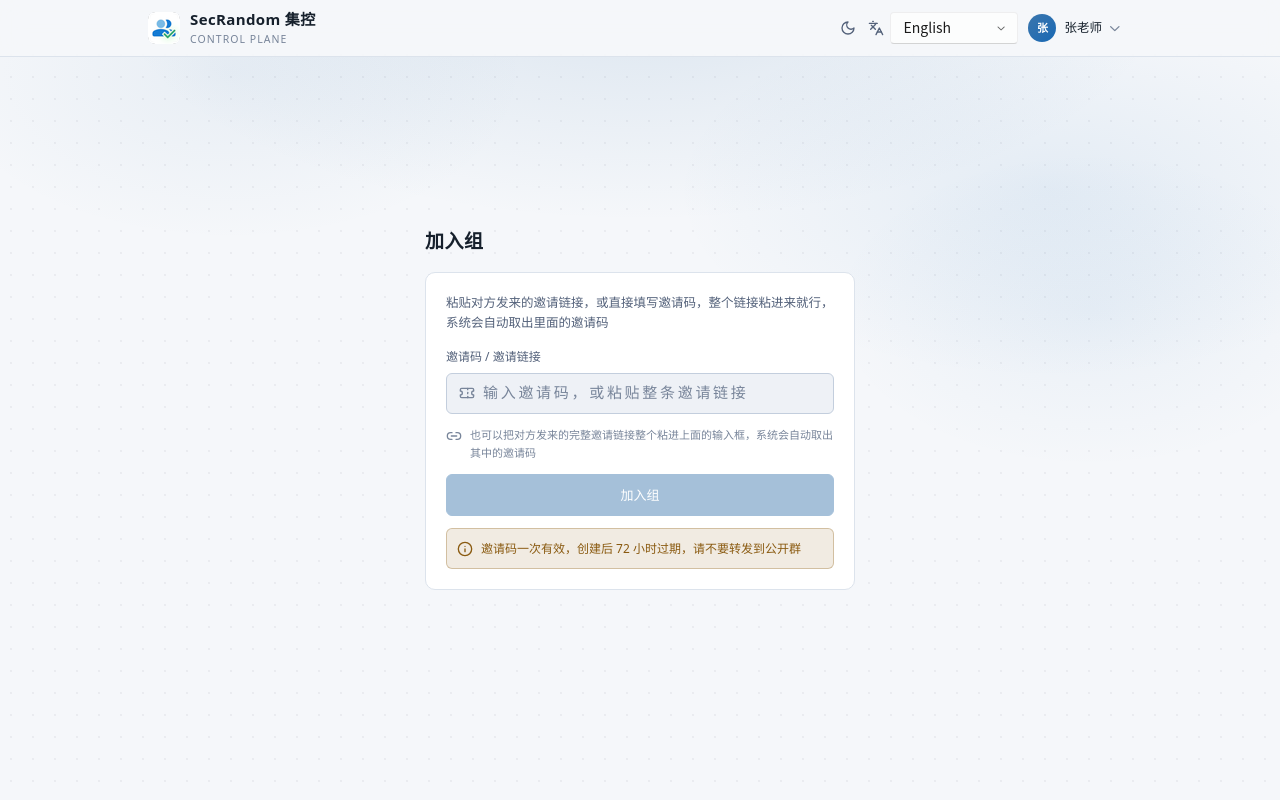
Scenario: JoinView › 链接里没有邀请码时给出明确提示，不发请求
Type "https://ctl.example.com/join" into the field labelled "邀请码 / 邀请链接". click: (652, 393)
box: x1=483 y1=382 x2=821 y2=405
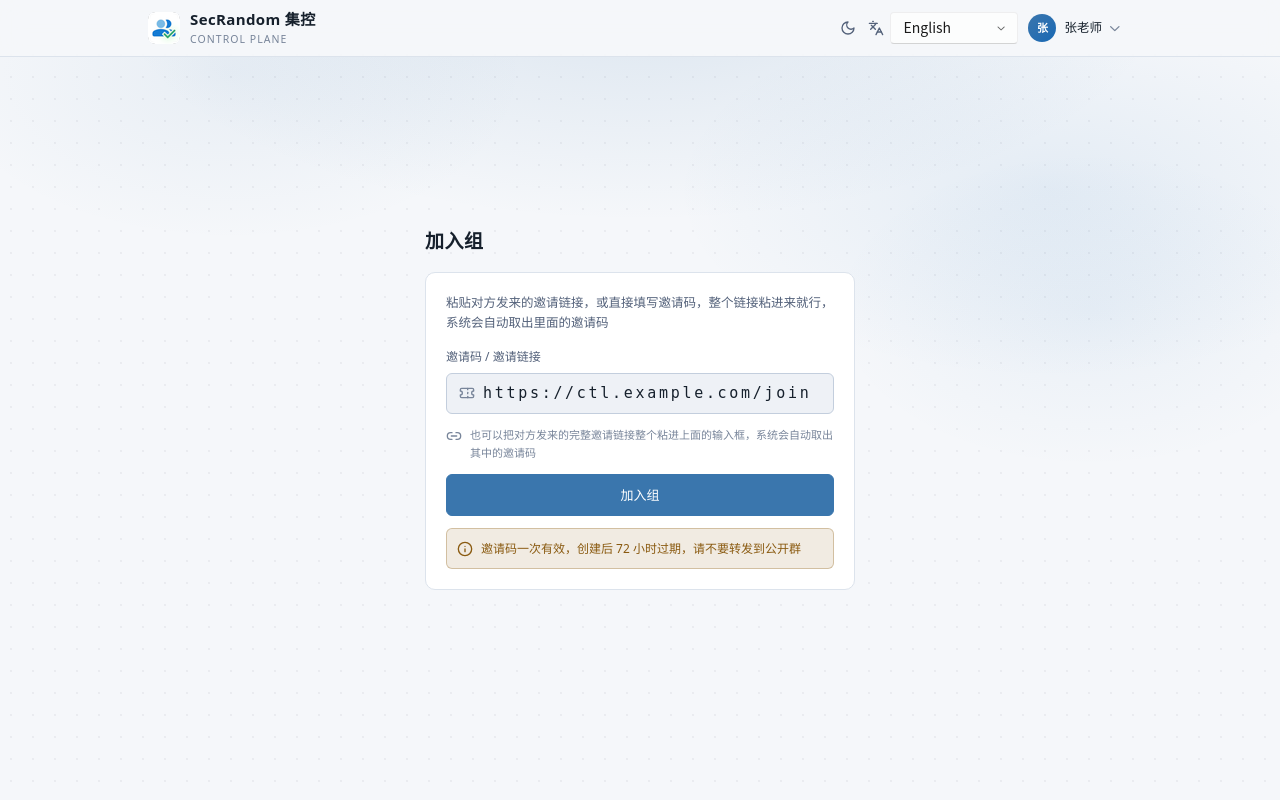
Submit the form, box x1=446 y1=348 x2=834 y2=516
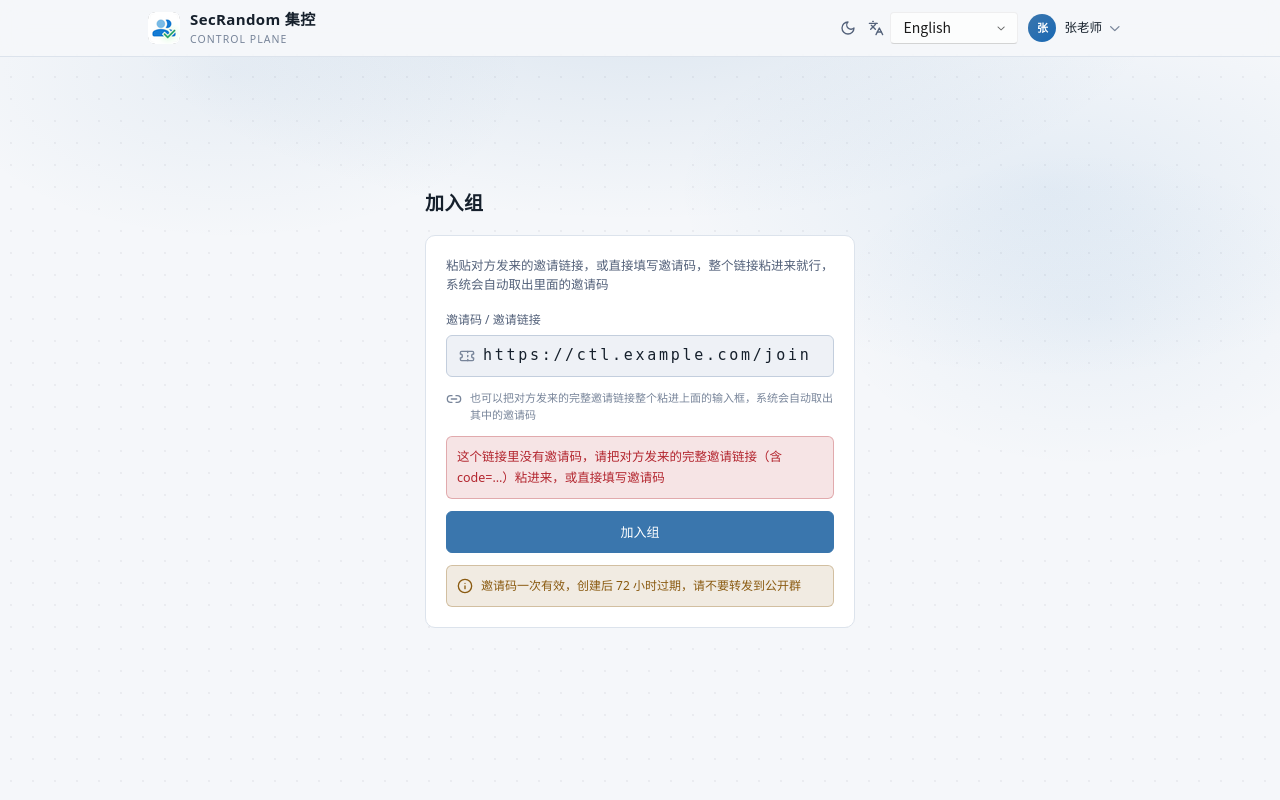
Now the text with test id "join-error" shows "这个链接里没有邀请码", box x1=457 y1=448 x2=782 y2=486
